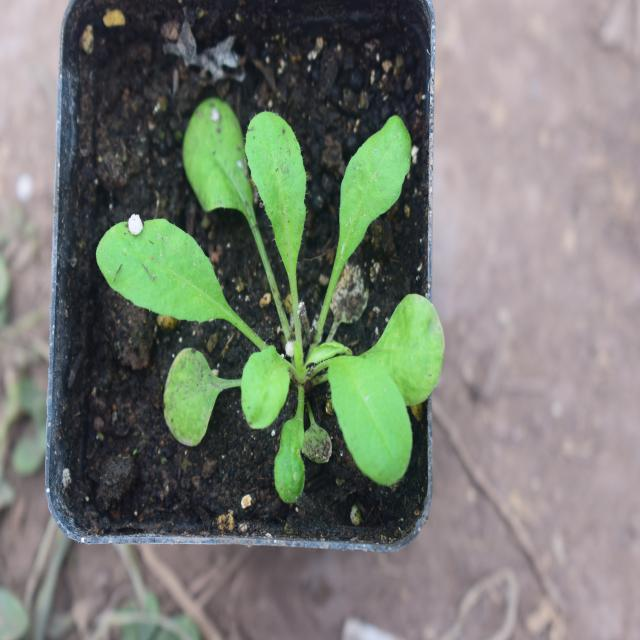Shepherd_Purse: (110, 136, 429, 465)
